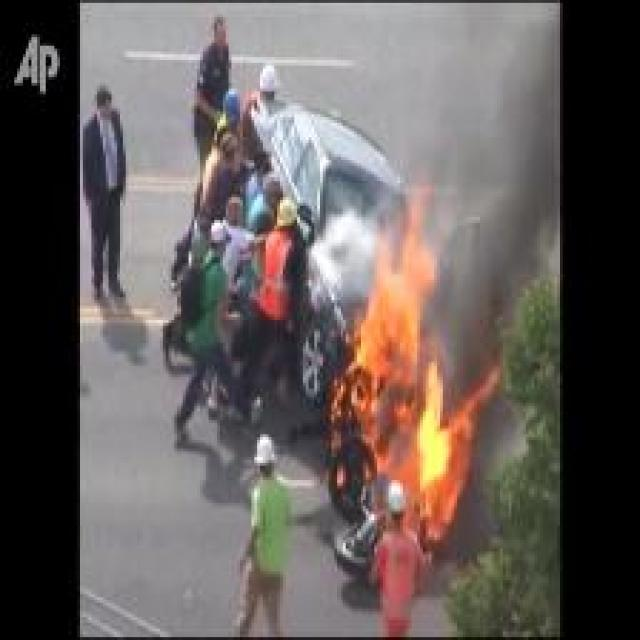Fire: (333, 170, 501, 544)
